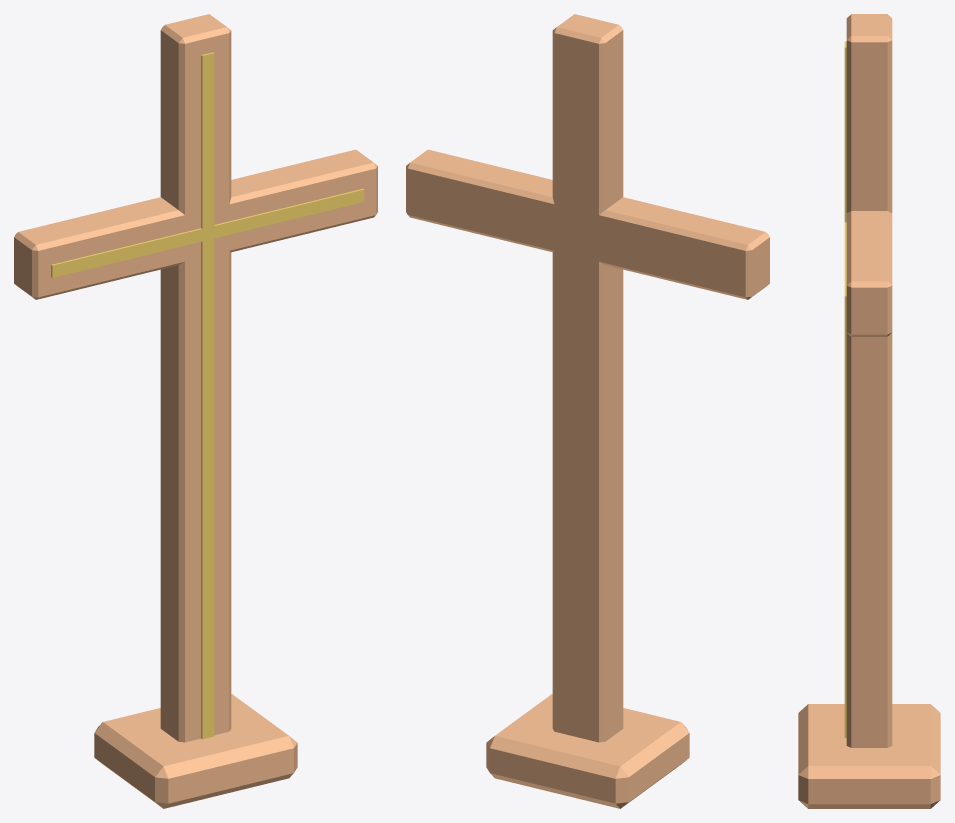
3 views of the same model, side by side, from view 1: azimuth 30°, elevation 25°; view 2: azimuth 150°, elevation 25°; view 3: azimuth 270°, elevation 25° (orthographic).
Parts seen in each view (by area): view 1: Cross upright, Cross arm, Stepped plinth, Inset upright, Inset arm; view 2: Cross upright, Cross arm, Stepped plinth; view 3: Cross upright, Stepped plinth, Cross arm, Inset upright.
Part boxes in pixels (x1,y1,x2,y2): Cross upright: (160,14,231,742); Cross arm: (14,149,377,299); Stepped plinth: (94,694,297,808); Inset upright: (201,52,214,739); Inset arm: (51,189,364,277); Cross upright: (552,14,623,742); Cross arm: (406,149,769,299); Stepped plinth: (486,694,689,808); Cross upright: (846,14,892,747); Stepped plinth: (798,704,940,808); Cross arm: (846,211,892,336); Inset upright: (844,41,846,737).
Bounding box in the file's own units: 102 × 210 × 36.
